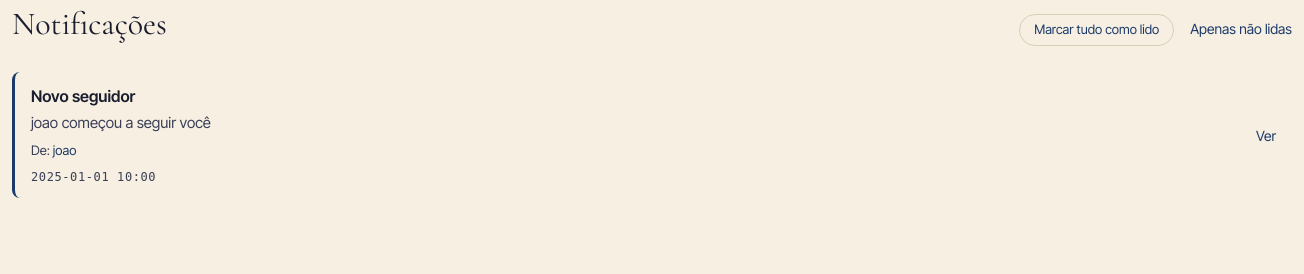
Scenario: notificacoes — marcar tudo como lido (5E.8) › mantém as não lidas e mostra o erro quando a mutation falha
Click the button with test id "mark-all-read" at (1097, 30), box [1019,14,1174,46]
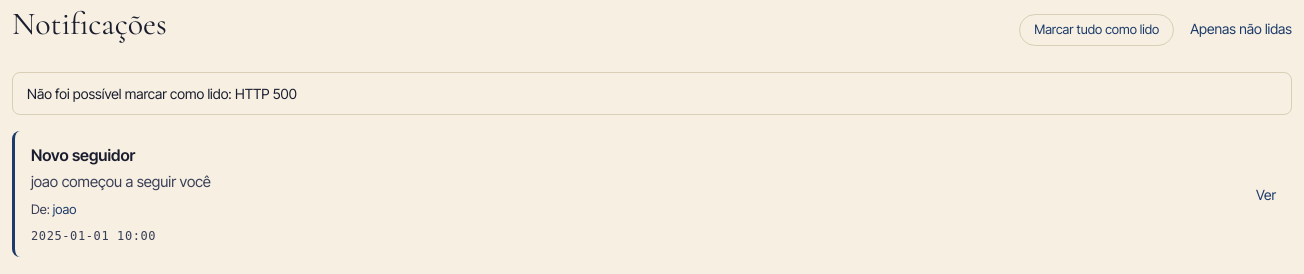
expect the message "Não foi possível marcar como lido: HTTP 500" is shown: met, box [12,72,1292,115]
